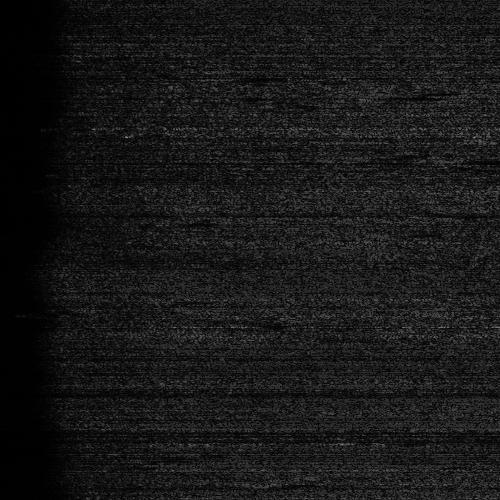rock: (475, 121, 500, 150), (432, 158, 485, 163)
shadow: (491, 121, 500, 150), (459, 158, 500, 163)
